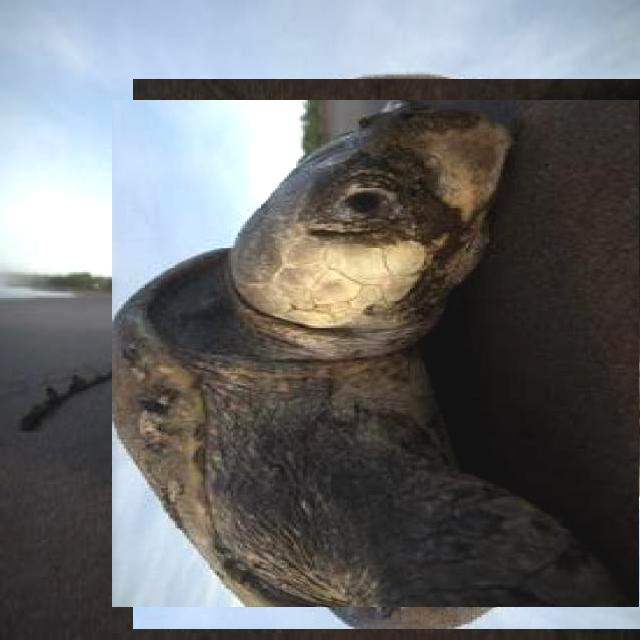Sea turtle: (122, 89, 640, 618)
